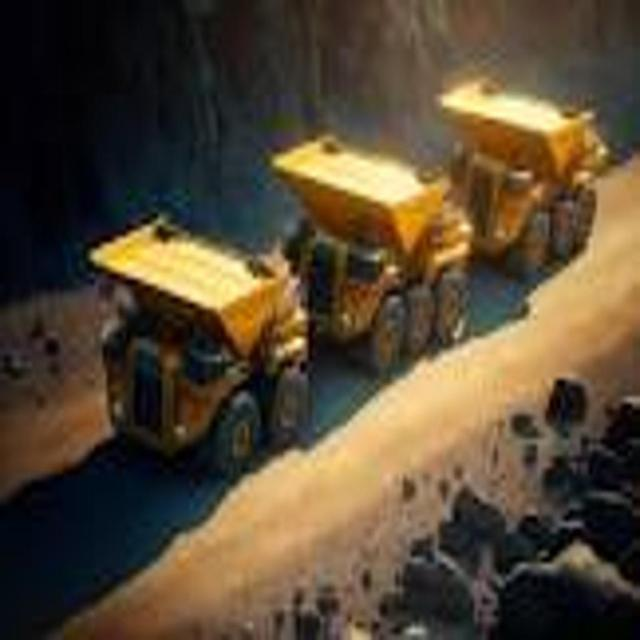dump_truck: (93, 170, 307, 482), (279, 127, 466, 370), (434, 59, 603, 291)
